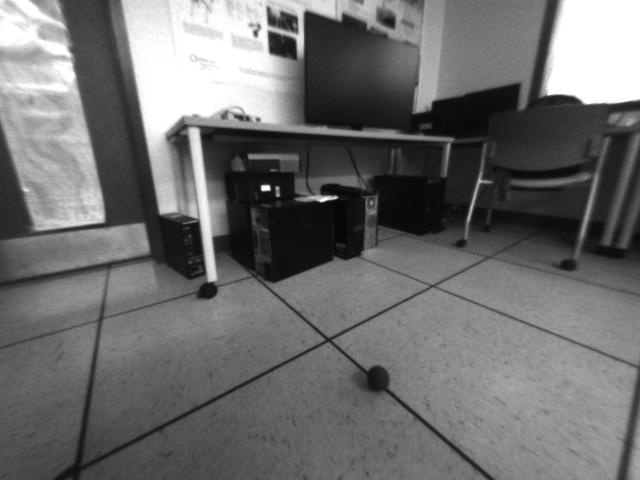dogtoy: (357, 354, 397, 398)
